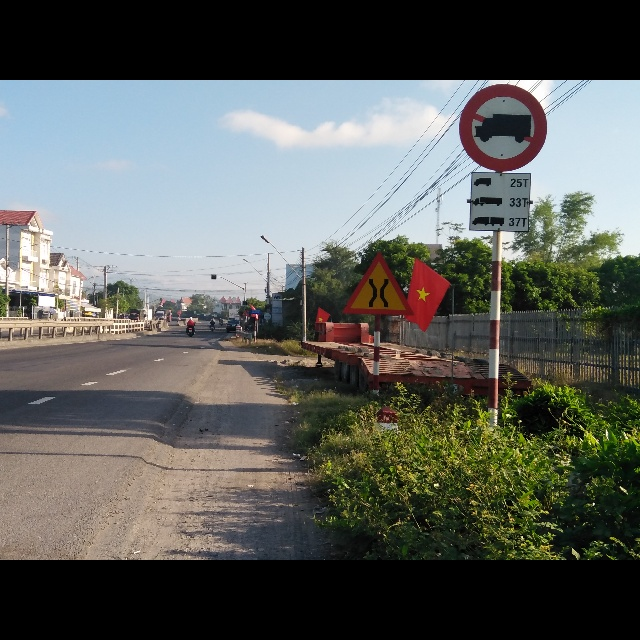Cấm xe tải: (459, 85, 549, 172)
Cầu hẹp: (341, 248, 413, 316)
